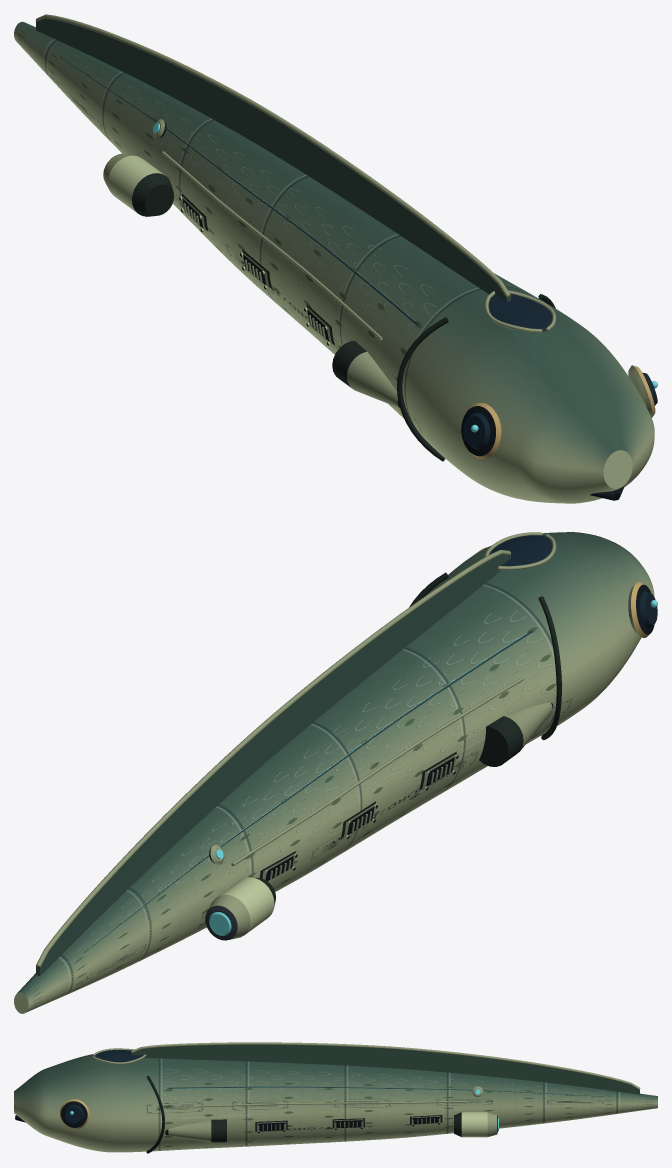
File: ship.glb
The picture shows the model from 3 angles, top to bottom: view 1: azimuth 30°, elevation 25°; view 2: azimuth 150°, elevation 25°; view 3: azimuth 270°, elevation 25°; orthographic projection. The views are drawn at different scales.
Parts seen in each view (by area): view 1: moray_hull; view 2: moray_hull; view 3: moray_hull.
Boxes of the visible parts, x1,y1,x2,y2 form: moray_hull: (14,14,657,503); moray_hull: (14,532,657,1013); moray_hull: (14,1042,657,1153).
Size of the model in its own units: 10.79 by 10.8 by 60.
Materials: 1 (1 with a texture image).
